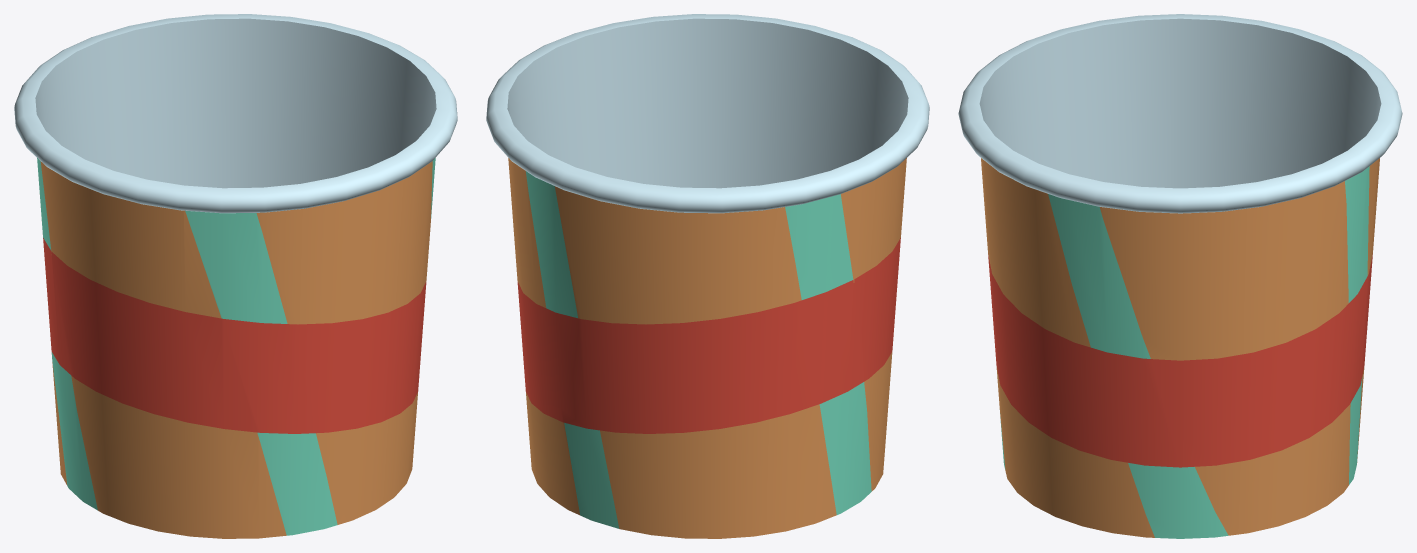
Rendered from Cup Ice Cream F.fbx.
The picture shows the model from 3 angles, left to right: view 1: azimuth 30°, elevation 25°; view 2: azimuth 150°, elevation 25°; view 3: azimuth 270°, elevation 25°; orthographic projection.
Parts seen in each view (by area): view 1: Cup Ice Cream F; view 2: Cup Ice Cream F; view 3: Cup Ice Cream F.
Boxes of the visible parts, box(x1,y1,x2,y2) form: Cup Ice Cream F: box(14, 14, 457, 538); Cup Ice Cream F: box(486, 14, 929, 538); Cup Ice Cream F: box(958, 14, 1402, 538).
Size of the model in its own units: 0.8741 by 0.7833 by 0.8741.
